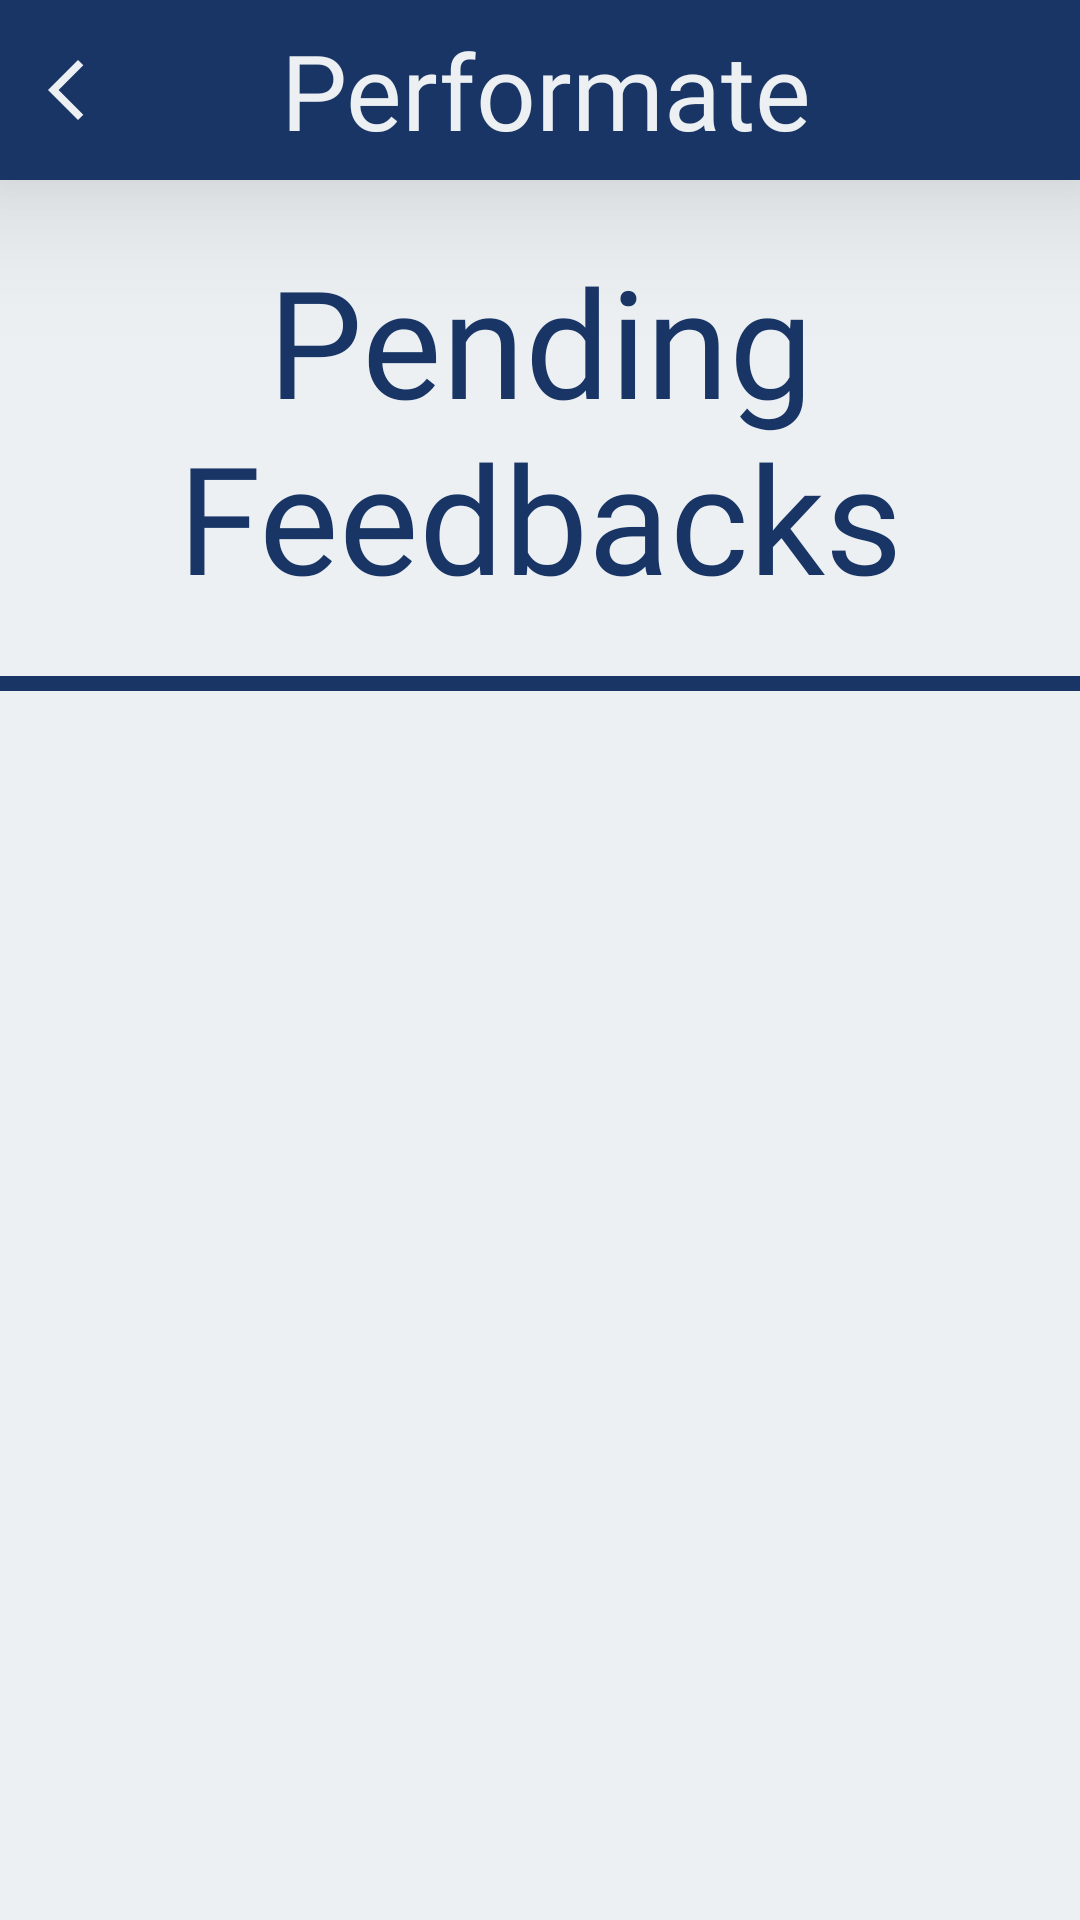

Icon bounding boxes for this 1080w x 1920h phone screenshot, format {"left": x1, "top": y1, "right": x2, "bottom": y2}:
backarrow: {"left": 48, "top": 60, "right": 83, "bottom": 120}
